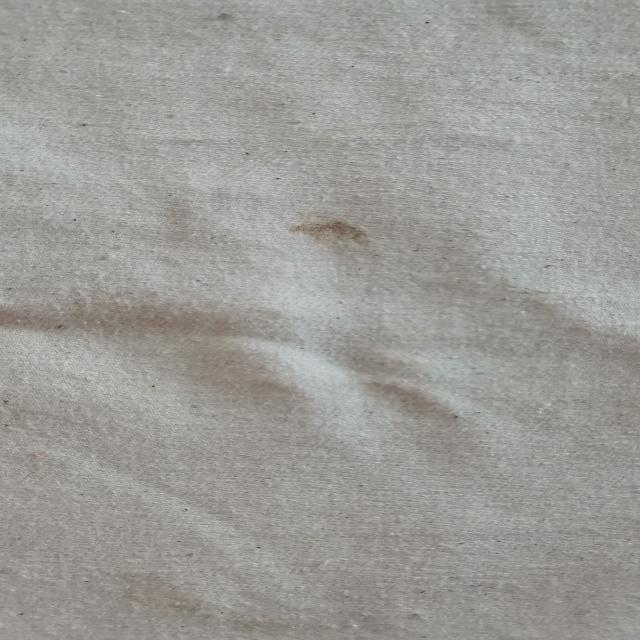taaaches: (278, 215, 408, 284), (442, 0, 584, 54), (165, 0, 246, 40)
